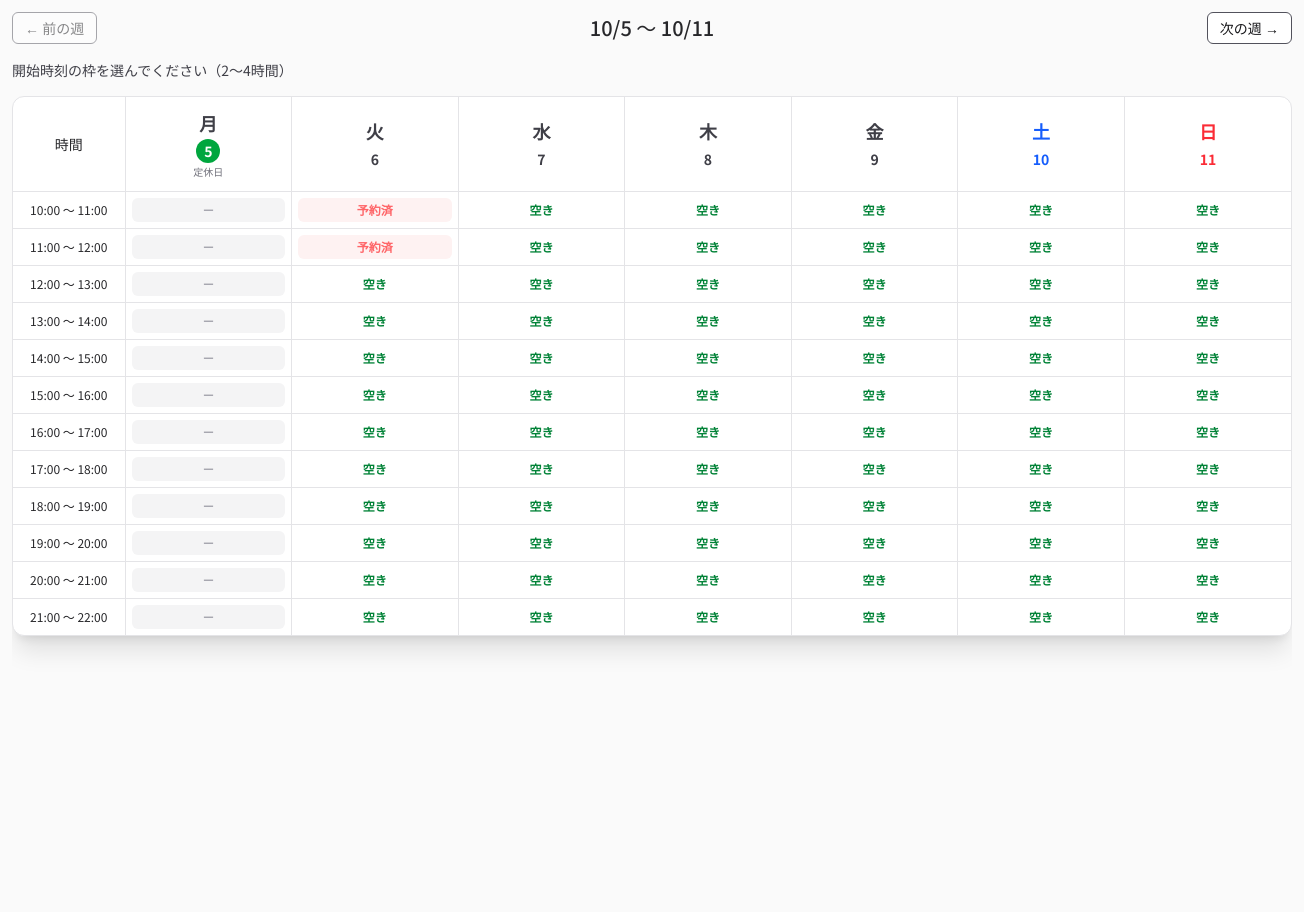
Test case: 枠の選択 › 開始を選ぶと、2〜4枠目が終了候補になり、案内が変わる
Click the 12th button "空き" at (541,284), box [465,272,618,296]
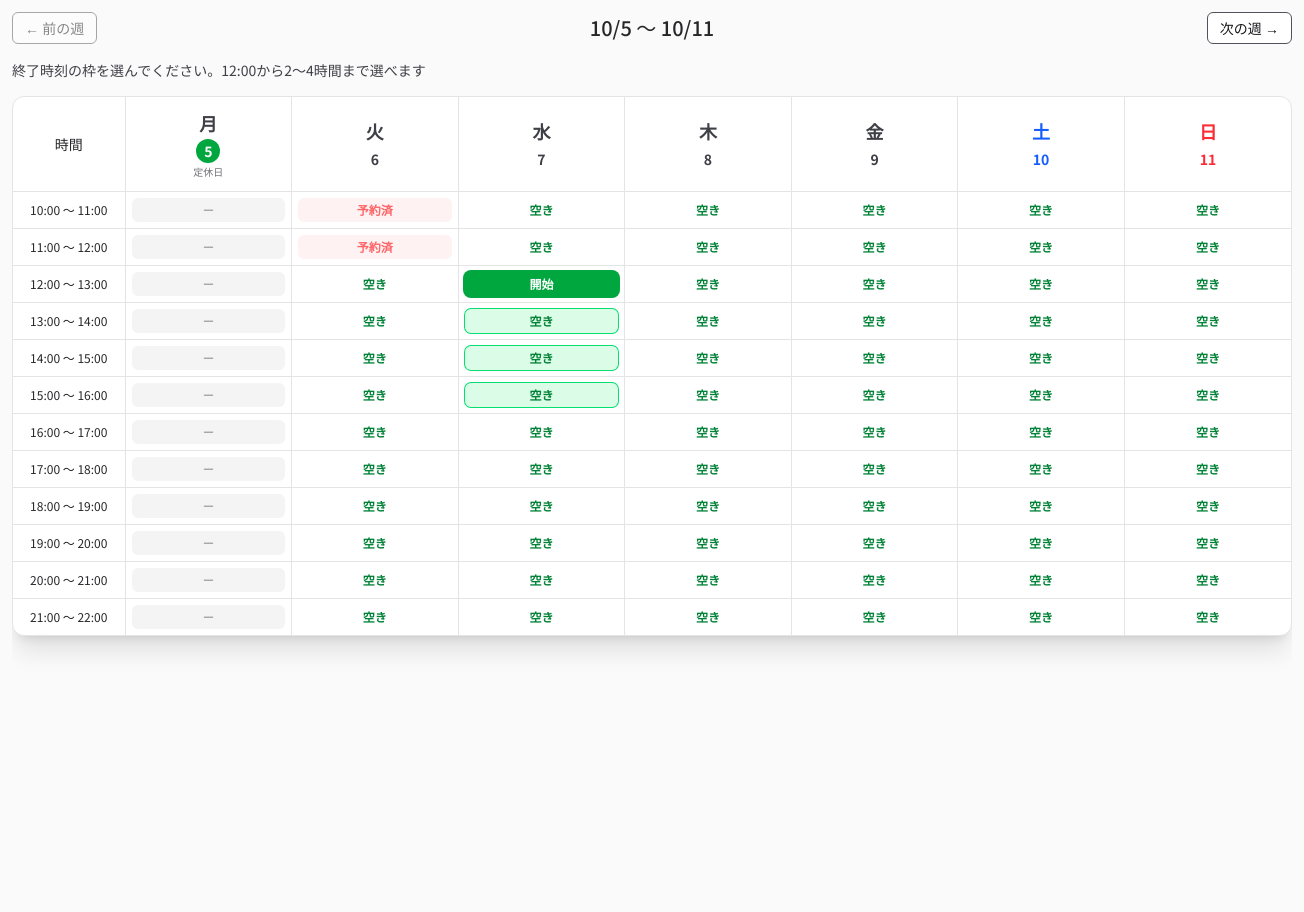
Check: the text with test id "selection-hint" reads "終了時刻の枠を選んでください。12:00から2〜4時間まで選べます", box [12,60,426,80]
